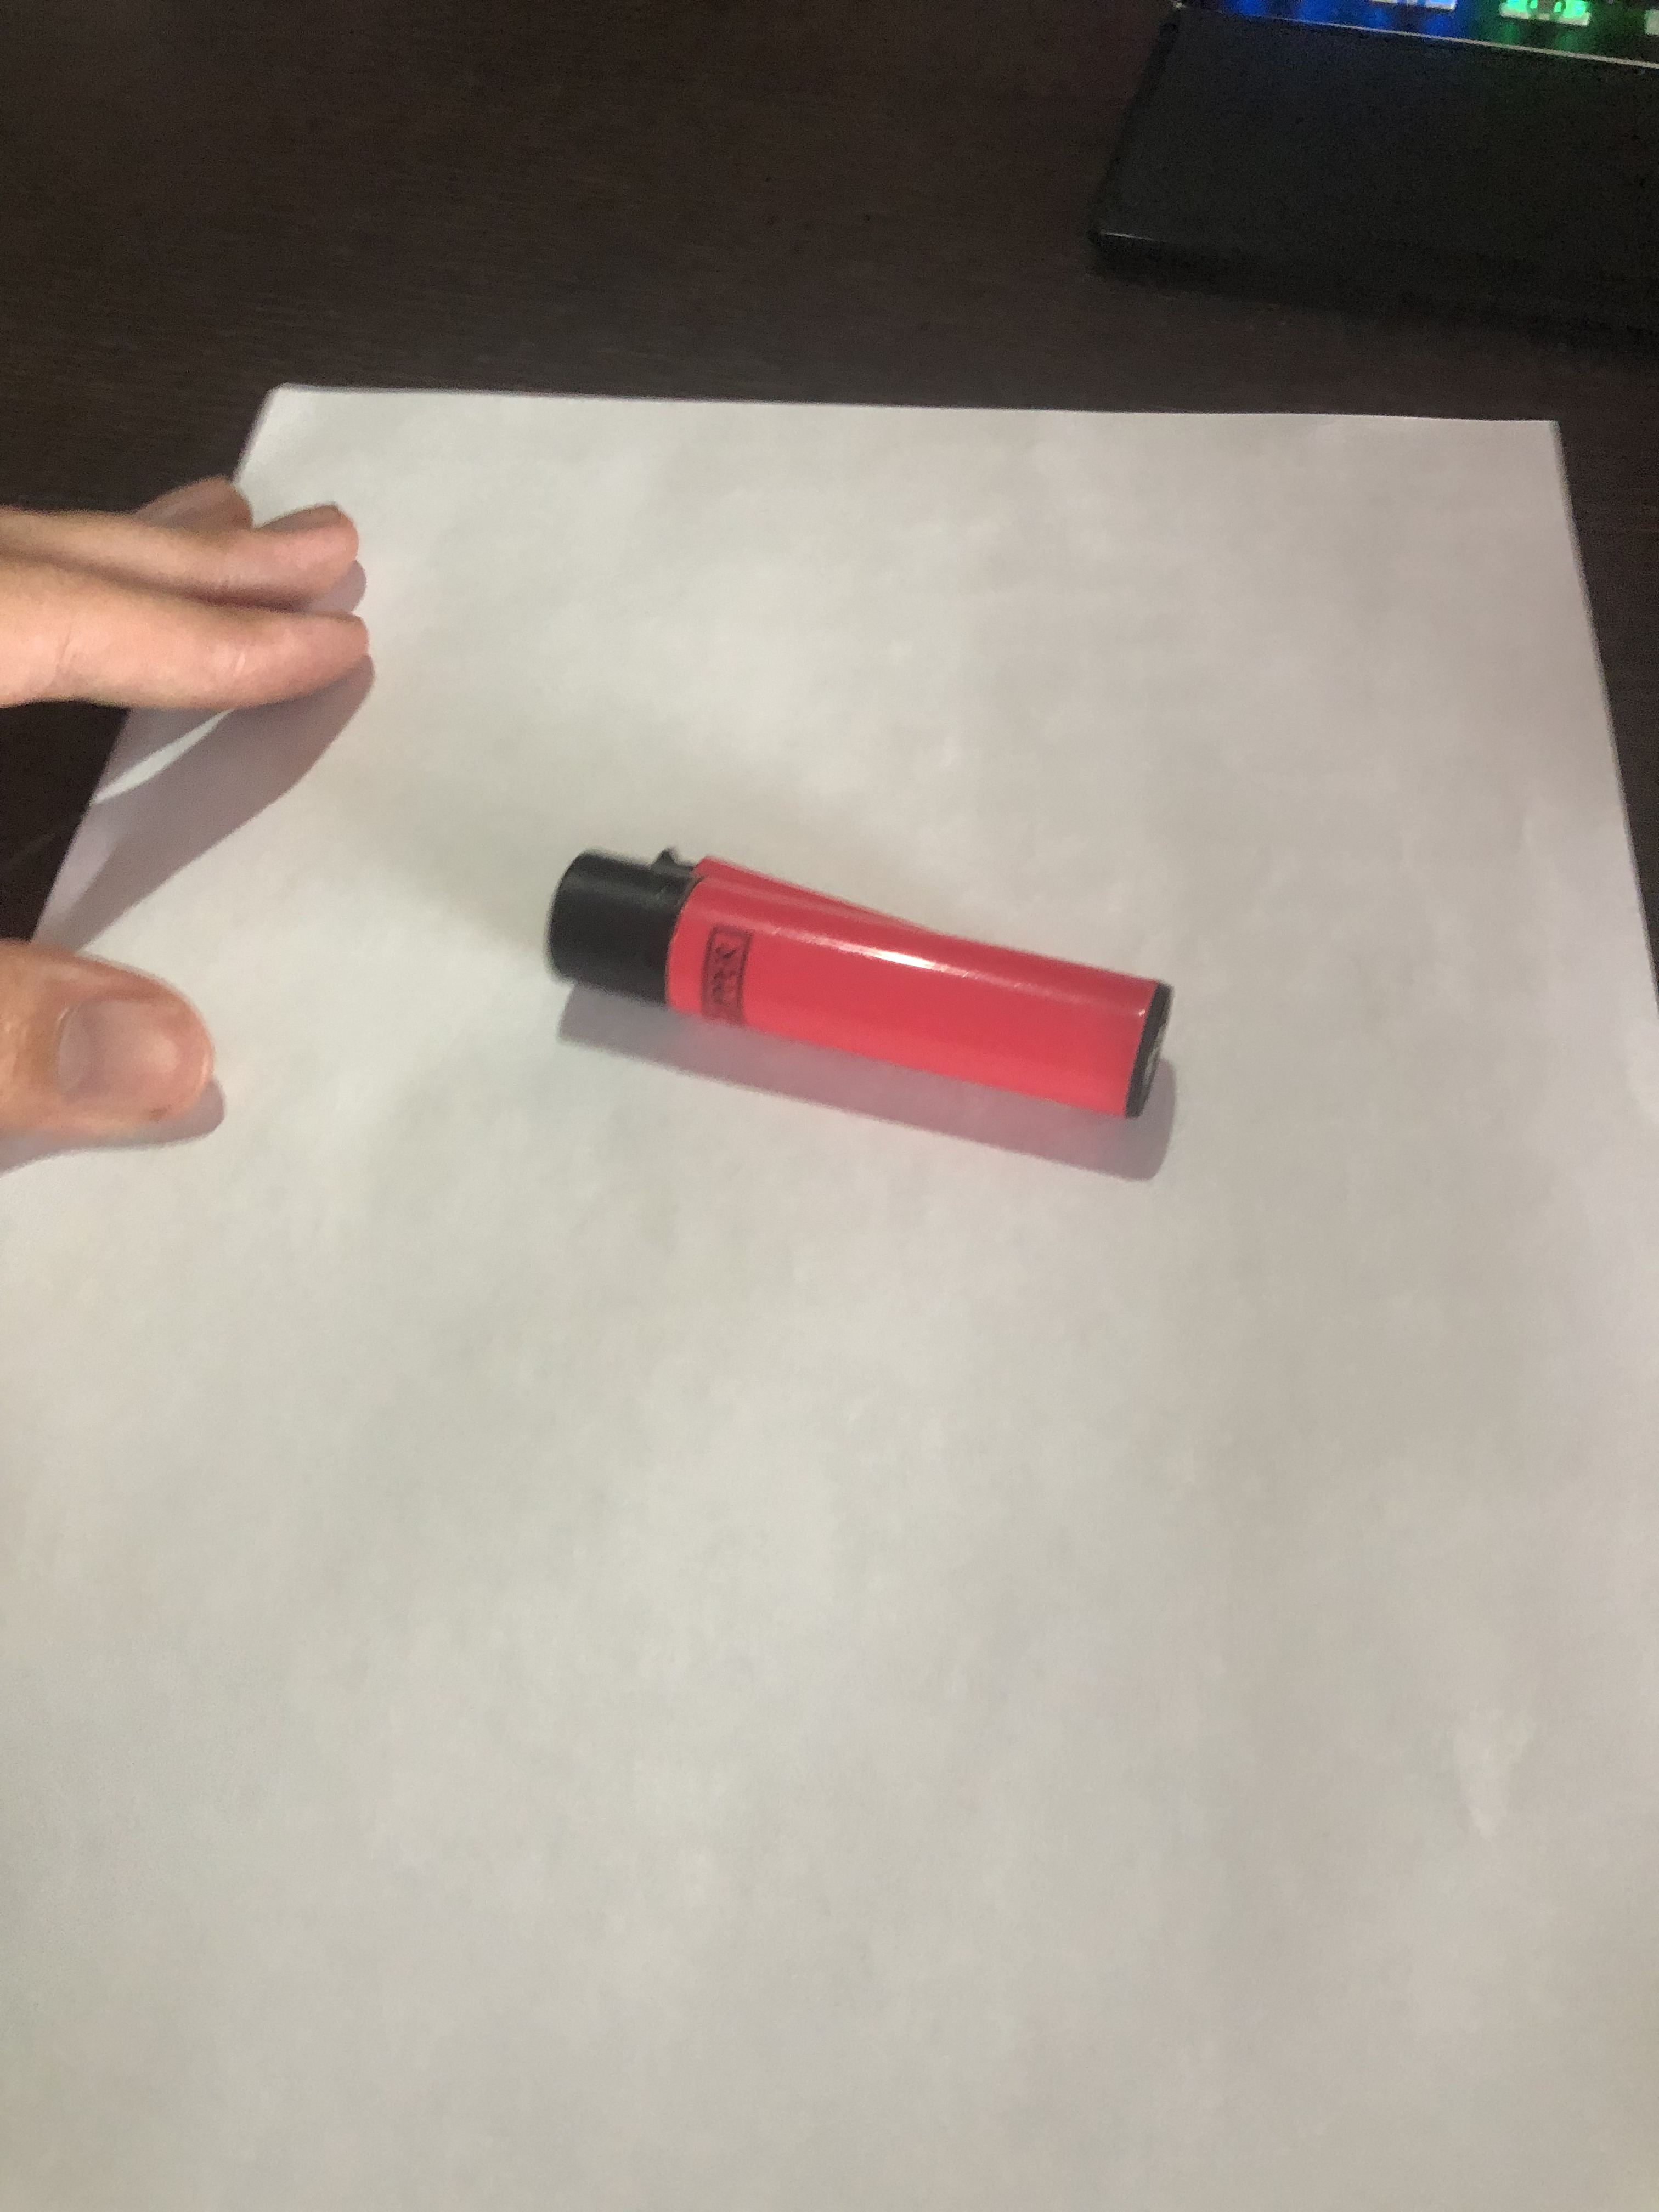Mechero: (498, 792, 1180, 1165)
